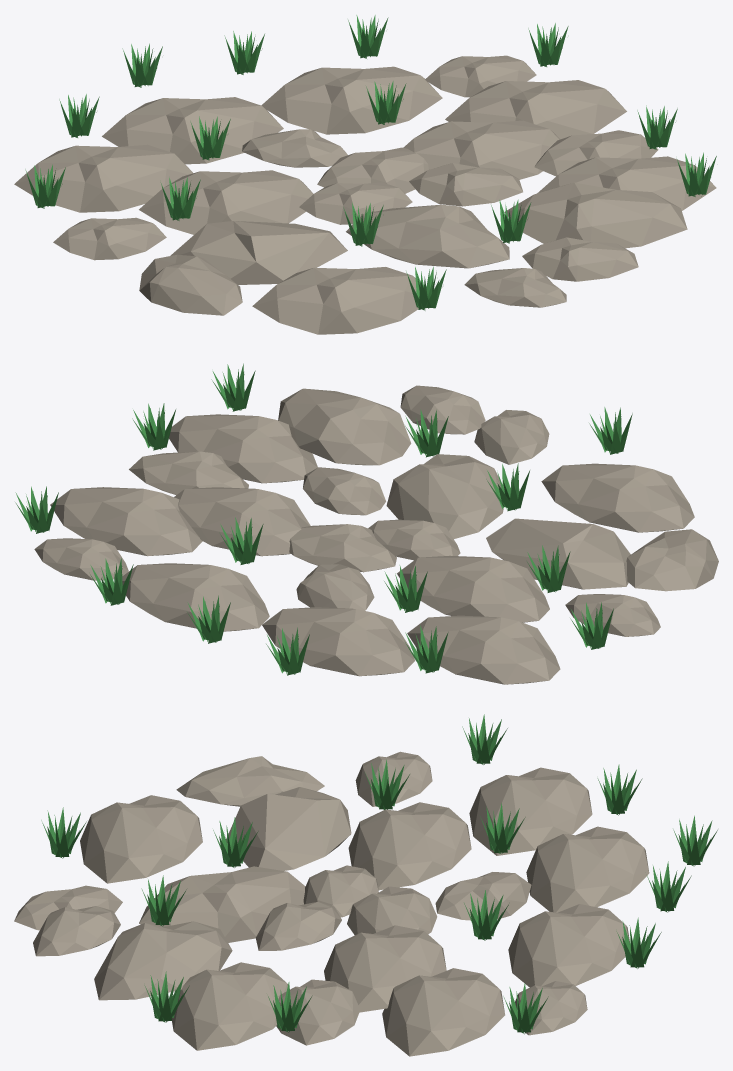
3 views of the same model, one above another, from view 1: azimuth 30°, elevation 25°; view 2: azimuth 150°, elevation 25°; view 3: azimuth 270°, elevation 25° (orthographic). The views are drawn at different scales.
Visible parts, largest first — view 1: CopyRock .009, CopyRock .003, CopyRock .008, CopyRock .016, CopyRock .011, CopyRock .019, CopyRock .005, CopyRock .006, CopyRock .004, CopyRock .010, CopyRock .018, CopyRock .017 (+23 smaller); view 2: CopyRock .009, CopyRock .008, CopyRock .019, CopyRock .004, CopyRock .016, CopyRock .005, CopyRock .003, CopyRock .006, CopyRock .011, CopyRock .017, CopyRock .010, CopyRock .018 (+23 smaller); view 3: CopyRock .009, CopyRock .004, CopyRock .019, CopyRock .005, CopyRock .003, CopyRock .008, CopyRock .017, CopyRock .011, CopyRock .016, CopyRock .006, CopyRock .010, CopyRock .018 (+23 smaller).
Boxes of the visible parts, x1,y1,x2,y2 form: CopyRock .009: (252,267,418,334); CopyRock .003: (261,66,442,134); CopyRock .008: (504,182,687,248); CopyRock .016: (14,144,192,212); CopyRock .011: (170,221,347,284); CopyRock .019: (102,97,283,164); CopyRock .005: (139,170,313,234); CopyRock .006: (346,204,509,268); CopyRock .004: (445,80,626,139); CopyRock .010: (403,120,559,179); CopyRock .018: (139,254,242,315); CopyRock .017: (537,156,716,210); CopyRock .009: (541,463,694,532); CopyRock .008: (278,388,411,465); CopyRock .019: (262,607,415,676); CopyRock .004: (50,487,202,556); CopyRock .016: (407,615,560,684); CopyRock .005: (397,555,549,622); CopyRock .003: (122,563,269,631); CopyRock .006: (386,454,503,538); CopyRock .011: (486,518,630,589); CopyRock .017: (169,414,317,483); CopyRock .010: (174,487,310,556); CopyRock .018: (626,529,718,591); CopyRock .009: (80,795,202,883); CopyRock .004: (382,968,504,1056); CopyRock .019: (526,826,649,912); CopyRock .005: (348,802,471,890); CopyRock .003: (508,904,629,987); CopyRock .008: (94,921,232,1000); CopyRock .017: (171,962,287,1050); CopyRock .011: (226,787,351,870); CopyRock .016: (469,767,592,855); CopyRock .006: (139,866,305,942); CopyRock .010: (324,925,446,1012); CopyRock .018: (176,756,324,806).
Size of the model in its own units: 1.63 by 0.1464 by 1.65.
